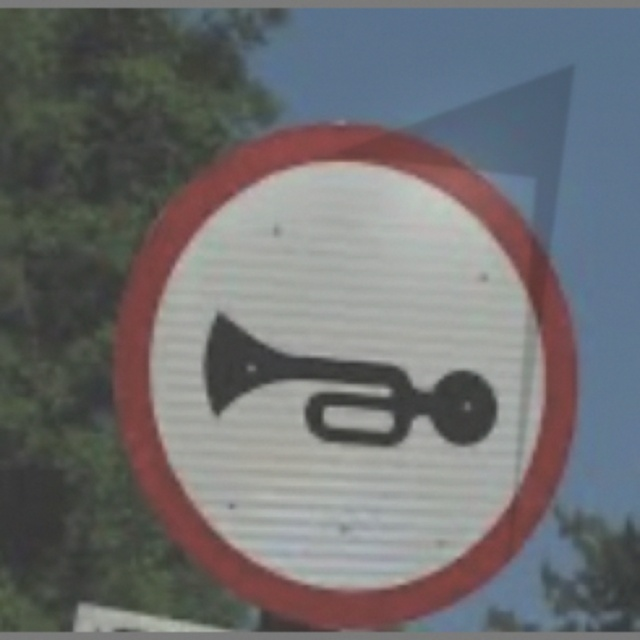Compulsory_Sound_Horn: (126, 134, 563, 590)
